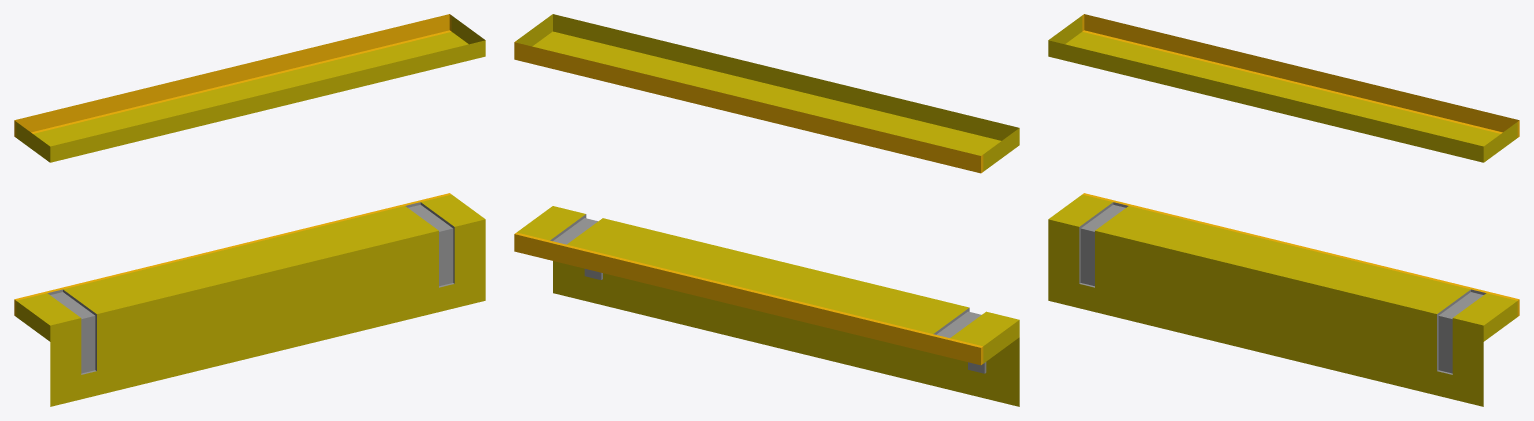
Rendered from door_manual_window_7x3.dae.
3 views of the same model, side by side, from view 1: azimuth 30°, elevation 25°; view 2: azimuth 150°, elevation 25°; view 3: azimuth 330°, elevation 25° (orthographic). The views are drawn at different scales.
Parts seen in each view (by area): view 1: Cube; view 2: Cube; view 3: Cube.
Boxes of the visible parts, x1=… form: Cube: x1=14, y1=14, x2=485, y2=406; Cube: x1=514, y1=14, x2=1019, y2=406; Cube: x1=1048, y1=14, x2=1519, y2=406.
Bounding box in the file's own units: 1.75 × 0.25 × 1.
